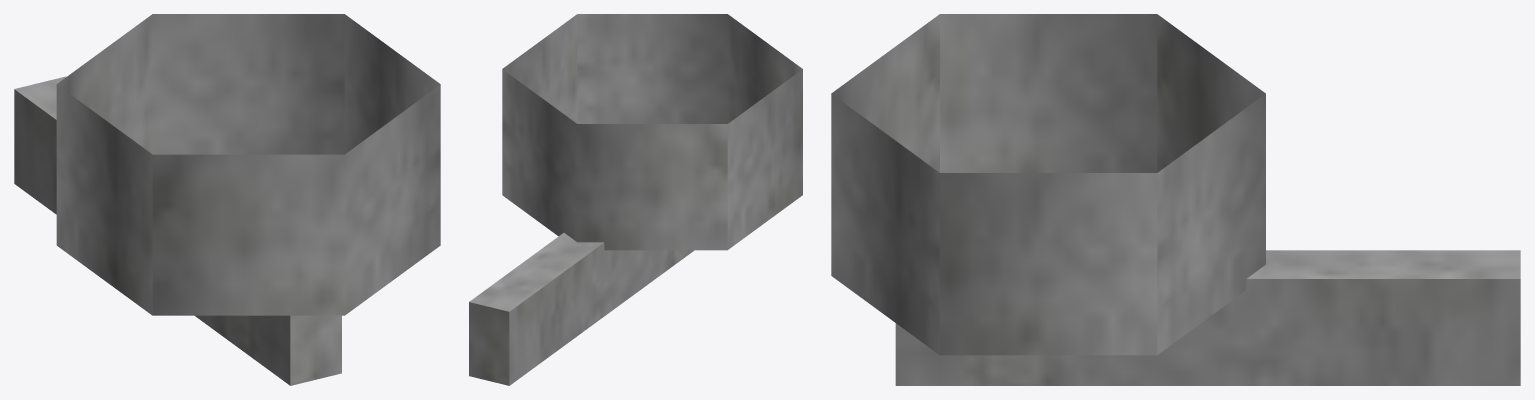
File: Manija_Washbasin_07.glb
3 renders of one model, left to right at view 1: azimuth 30°, elevation 25°; view 2: azimuth 150°, elevation 25°; view 3: azimuth 270°, elevation 25°, orthographic. The views are drawn at different scales.
Visible parts, largest first — view 1: Manija_Washbasin_07; view 2: Manija_Washbasin_07; view 3: Manija_Washbasin_07.
Part boxes in pixels (x1,y1,x2,y2): Manija_Washbasin_07: [14, 14, 440, 385]; Manija_Washbasin_07: [469, 14, 802, 385]; Manija_Washbasin_07: [831, 14, 1520, 385].
Size of the model in its own units: 0.0272 by 0.0222 by 0.0498.
1 material, 1 textured.
